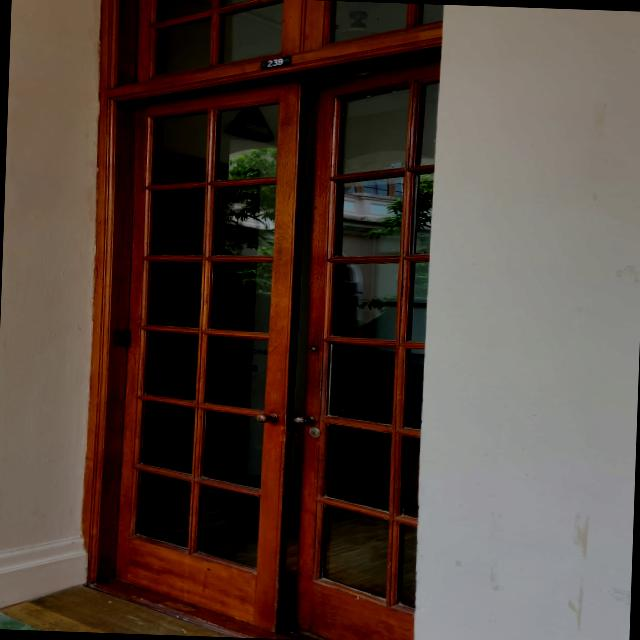room239: (257, 53, 292, 72)
